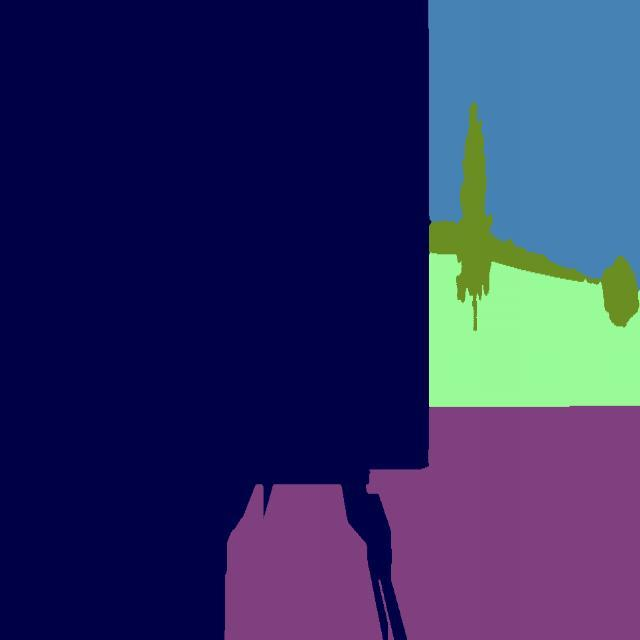unsafe: (0, 0, 432, 640)
